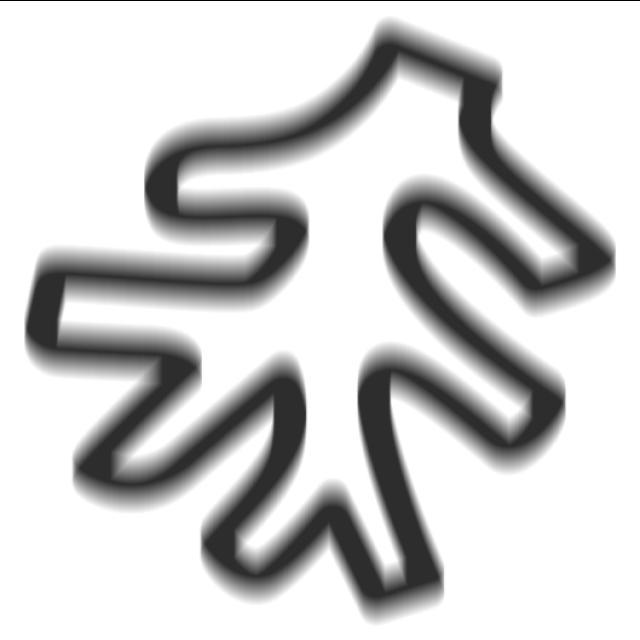coral: (15, 3, 633, 639)
